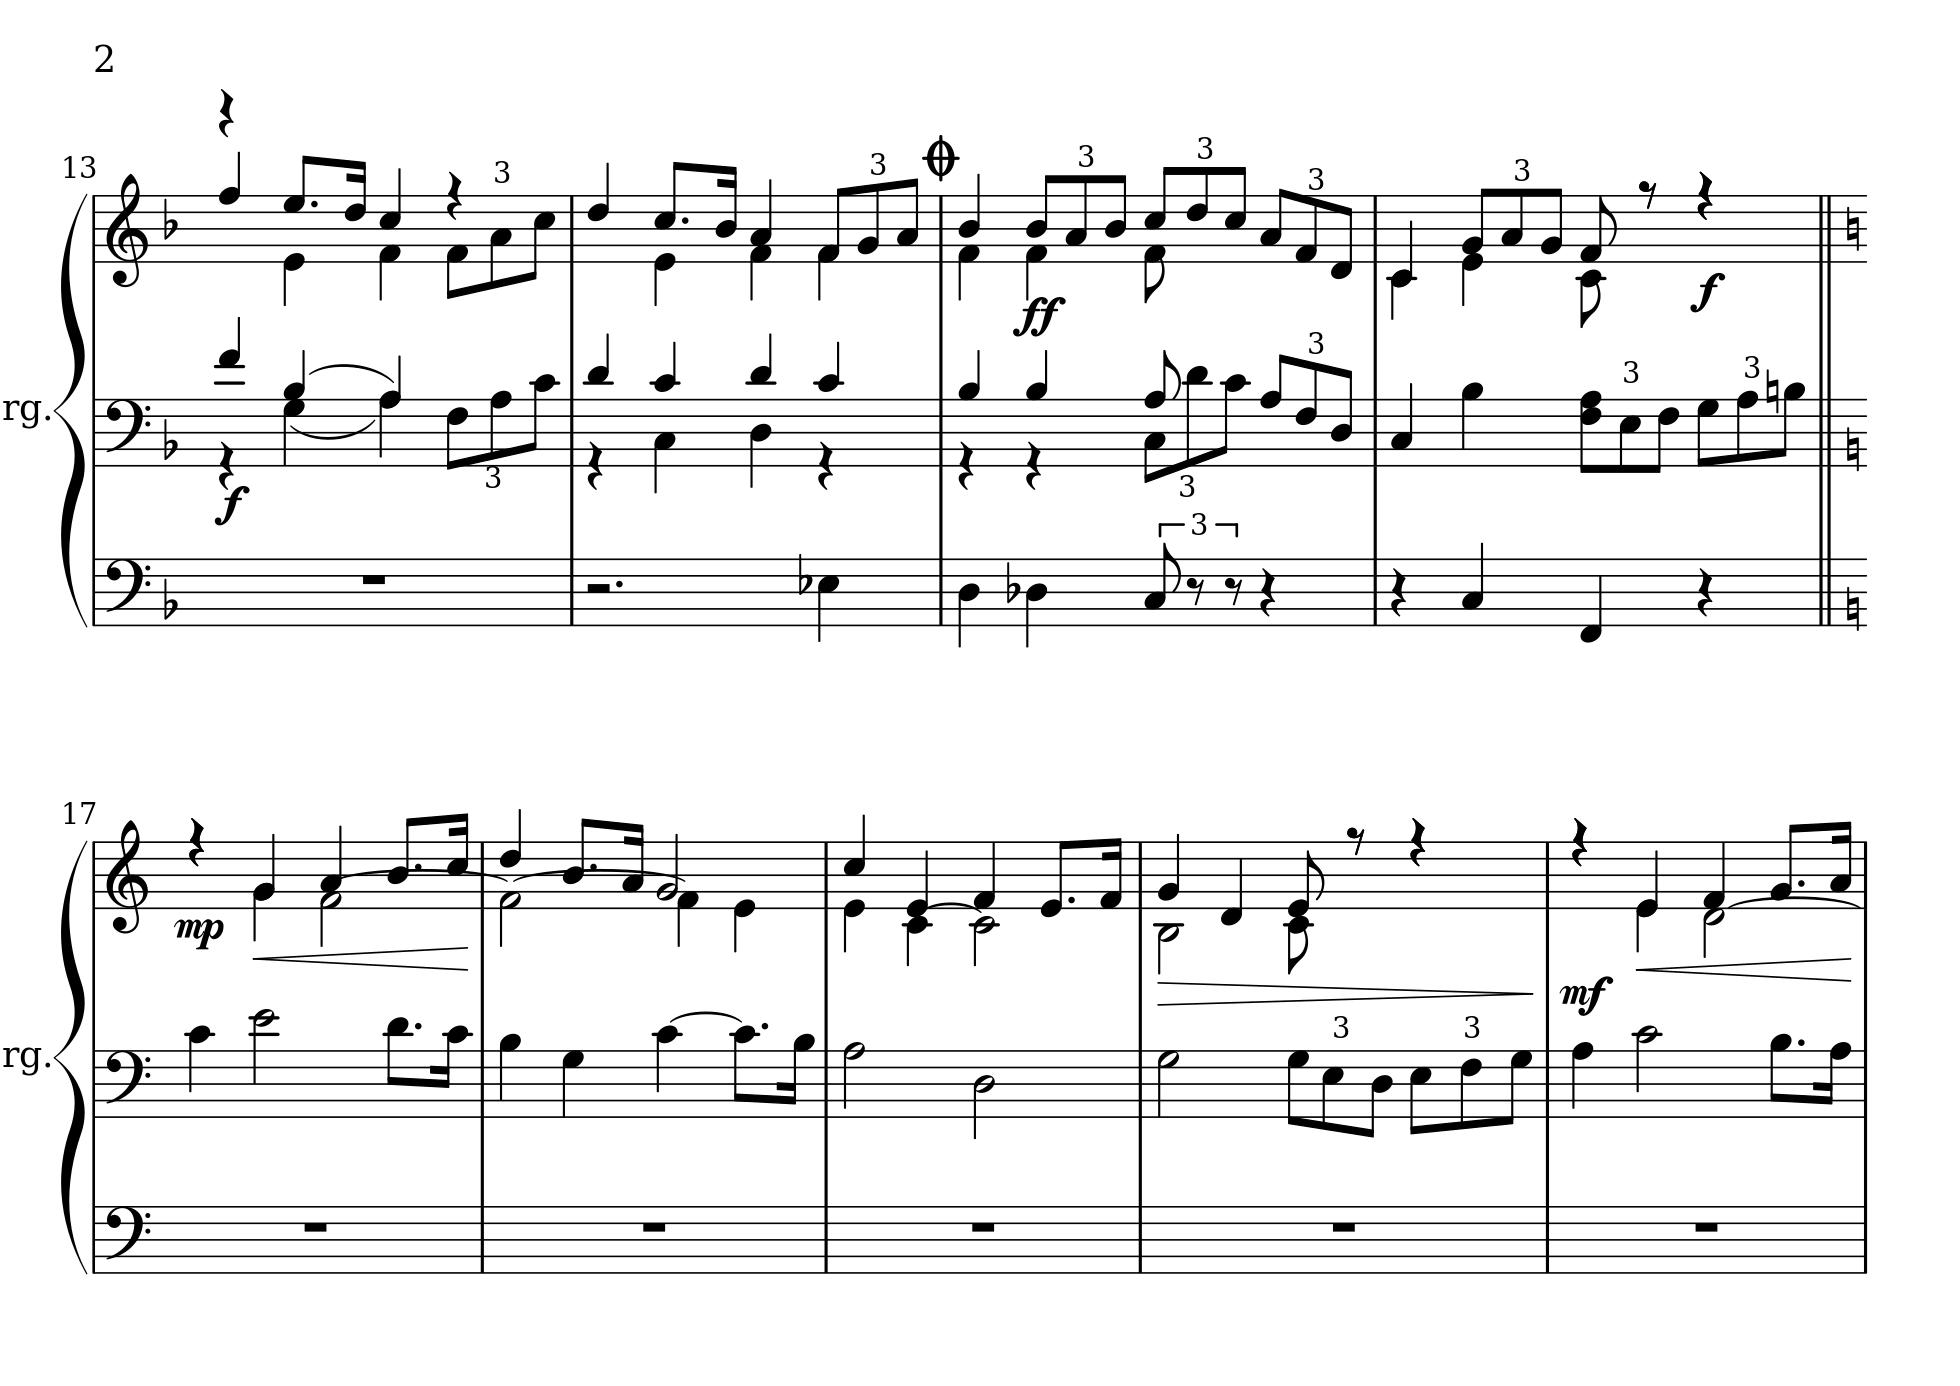1: (61, 799, 76, 828), (61, 153, 75, 180)
16_1: (1098, 835, 1123, 910)
16_10: (433, 1021, 471, 1119)
16_2: (619, 819, 645, 910)
16_3: (1828, 817, 1854, 909)
16_4: (712, 163, 739, 262)
16_5: (445, 810, 469, 910)
16_6: (343, 157, 367, 264)
16_8: (1815, 1039, 1851, 1119)
16_9: (780, 1030, 814, 1119)
2: (91, 40, 115, 73)
2_10: (1632, 1023, 1662, 1120)
2_12: (249, 1006, 279, 1122)
2_2: (655, 831, 679, 907)
2_4: (970, 1047, 996, 1138)
2_7: (1155, 1048, 1180, 1119)
2_8: (841, 1039, 865, 1120)
3: (481, 463, 502, 490), (1177, 472, 1197, 498), (1077, 142, 1095, 169), (79, 151, 97, 178), (493, 157, 511, 184), (1743, 352, 1761, 379), (1332, 1012, 1350, 1039), (1464, 1012, 1482, 1039), (1623, 358, 1641, 384), (1197, 133, 1213, 160), (1513, 156, 1530, 183), (1308, 328, 1324, 355), (870, 150, 886, 175), (1308, 165, 1324, 190)
4_-1: (1218, 838, 1245, 928), (1578, 555, 1605, 643)
4_-2_0: (903, 838, 930, 969)
4_0: (732, 838, 754, 955)
4_0_5: (841, 817, 868, 952)
4_1: (972, 838, 997, 910)
4_10: (814, 340, 847, 469), (184, 1023, 214, 1120), (652, 1024, 682, 1120)
4_11: (580, 334, 613, 466)
4_13: (211, 315, 244, 469)
4_1_3: (747, 177, 775, 300)
4_1_4: (955, 172, 982, 301)
4_1_5: (376, 169, 403, 301)
4_2: (1156, 831, 1182, 909)
4_3: (1389, 379, 1414, 466), (1461, 541, 1486, 628)
4_3_10: (652, 334, 684, 493)
4_4: (955, 556, 981, 649), (1024, 556, 1050, 648)
4_4_11: (748, 334, 777, 489)
4_5: (816, 555, 841, 643)
4_6: (586, 160, 610, 262)
4_7: (559, 1048, 586, 1119)
4_7_9: (280, 351, 307, 469)
4_8: (1569, 1039, 1596, 1119)
4_9: (957, 348, 987, 469), (1024, 348, 1050, 466), (496, 1030, 523, 1117), (1459, 379, 1485, 468)
7: (79, 796, 97, 826)
8_-1: (1329, 193, 1356, 280)
8_-2_0: (1282, 838, 1326, 975)
8_-2_1: (1576, 193, 1620, 331)
8_0: (1038, 838, 1071, 918)
8_1: (676, 837, 700, 948), (444, 199, 469, 300), (1294, 192, 1320, 265)
8_10: (1215, 372, 1248, 466), (526, 373, 558, 466), (730, 1024, 757, 1119)
8_11: (385, 1014, 412, 1119), (1185, 364, 1210, 469)
8_1_5: (1143, 165, 1179, 303)
8_2: (1770, 820, 1801, 907), (856, 181, 880, 264), (1539, 186, 1563, 264)
8_3: (1143, 541, 1182, 627), (1260, 184, 1290, 264), (487, 192, 511, 291), (1065, 172, 1089, 264), (895, 175, 919, 264), (1500, 184, 1525, 264)
8_3_8: (1143, 349, 1182, 484)
8_4: (385, 814, 418, 910), (1362, 1048, 1393, 1140), (562, 814, 592, 910), (1329, 366, 1356, 466), (1104, 172, 1128, 264)
8_4_6: (1578, 388, 1603, 475)
8_5: (526, 192, 556, 280), (1224, 163, 1248, 264), (1408, 1047, 1434, 1137), (1320, 1048, 1345, 1134), (1617, 397, 1642, 475)
8_6: (1294, 358, 1320, 468), (1185, 163, 1210, 264), (1650, 397, 1680, 474), (1458, 1048, 1483, 1131), (444, 397, 469, 471)
8_7: (1500, 1048, 1533, 1126), (1285, 1048, 1311, 1128), (1695, 397, 1720, 468)
8_8: (1260, 352, 1290, 466), (217, 148, 241, 264), (1734, 388, 1759, 468), (487, 388, 511, 468)
8_9: (1776, 381, 1806, 469), (1768, 1032, 1792, 1119)
Brace: (55, 834, 87, 1273)
Bracke: (55, 190, 87, 634)
Coda: (921, 133, 961, 180)
Crescendo_hairpin: (1639, 955, 1854, 982), (255, 946, 466, 970)
Diminuendo_hairpin: (1155, 979, 1533, 1003)
Double_barline: (1813, 556, 1837, 625), (1813, 193, 1837, 261), (1815, 397, 1836, 466)
Fclef: (103, 1047, 151, 1119), (103, 397, 151, 468), (102, 1203, 151, 1269), (103, 556, 150, 625)
Flat: (160, 574, 180, 622), (160, 195, 178, 241), (160, 415, 178, 460), (1003, 558, 1020, 604), (796, 552, 813, 595)
Gclef: (103, 171, 148, 288), (103, 817, 148, 934)
Natural: (1842, 204, 1863, 253), (1843, 424, 1863, 472), (1843, 583, 1863, 631), (1764, 367, 1782, 414)
Rests1: (358, 570, 390, 588), (639, 1216, 670, 1234), (967, 1216, 999, 1234), (1329, 1216, 1360, 1234), (1692, 1216, 1722, 1234), (300, 1218, 331, 1234)
Rests2: (582, 579, 613, 597)
Rests4: (184, 814, 208, 868), (1387, 565, 1410, 618), (1407, 814, 1428, 868), (444, 168, 465, 220), (1695, 168, 1716, 220), (585, 439, 606, 492), (814, 439, 835, 492), (955, 439, 976, 492), (1023, 439, 1044, 492), (1257, 565, 1278, 618), (1695, 565, 1716, 618), (216, 85, 235, 139), (1570, 814, 1590, 868), (216, 439, 235, 487)
Rests8: (1344, 823, 1368, 856), (1638, 177, 1660, 210), (1224, 574, 1245, 606), (1186, 574, 1206, 606)
Single_barline: (472, 841, 492, 910), (472, 1204, 492, 1273), (816, 1204, 835, 1273), (472, 1048, 492, 1116), (1132, 1048, 1152, 1116), (1366, 397, 1384, 466), (817, 1048, 835, 1117), (1539, 1048, 1557, 1117), (1855, 1048, 1873, 1117), (1539, 1204, 1557, 1273), (1131, 1204, 1149, 1273), (931, 399, 949, 465), (931, 558, 949, 624), (1539, 841, 1557, 907), (817, 841, 835, 907), (87, 193, 103, 262), (933, 193, 949, 261), (564, 195, 580, 262), (1366, 195, 1383, 262), (87, 399, 103, 466), (1366, 558, 1383, 625), (87, 1048, 103, 1116), (562, 559, 579, 624), (1134, 840, 1149, 909), (1857, 1204, 1872, 1273), (564, 399, 579, 466), (87, 841, 102, 909), (88, 556, 102, 627), (88, 1204, 102, 1273), (1858, 840, 1872, 906)
Slur: (307, 361, 393, 384), (288, 420, 378, 439), (667, 1009, 745, 1023), (930, 900, 976, 913)
dot: (411, 1018, 424, 1033), (409, 859, 424, 871), (307, 196, 319, 210), (678, 214, 691, 226), (757, 1018, 769, 1032), (1795, 1035, 1807, 1048), (613, 577, 625, 589), (1065, 892, 1077, 904), (586, 859, 598, 870), (1795, 876, 1806, 886)
f: (1687, 271, 1728, 313), (214, 483, 250, 525)
ff: (1012, 295, 1066, 337)
mf: (1558, 970, 1614, 1017)
mp: (172, 915, 225, 952)
